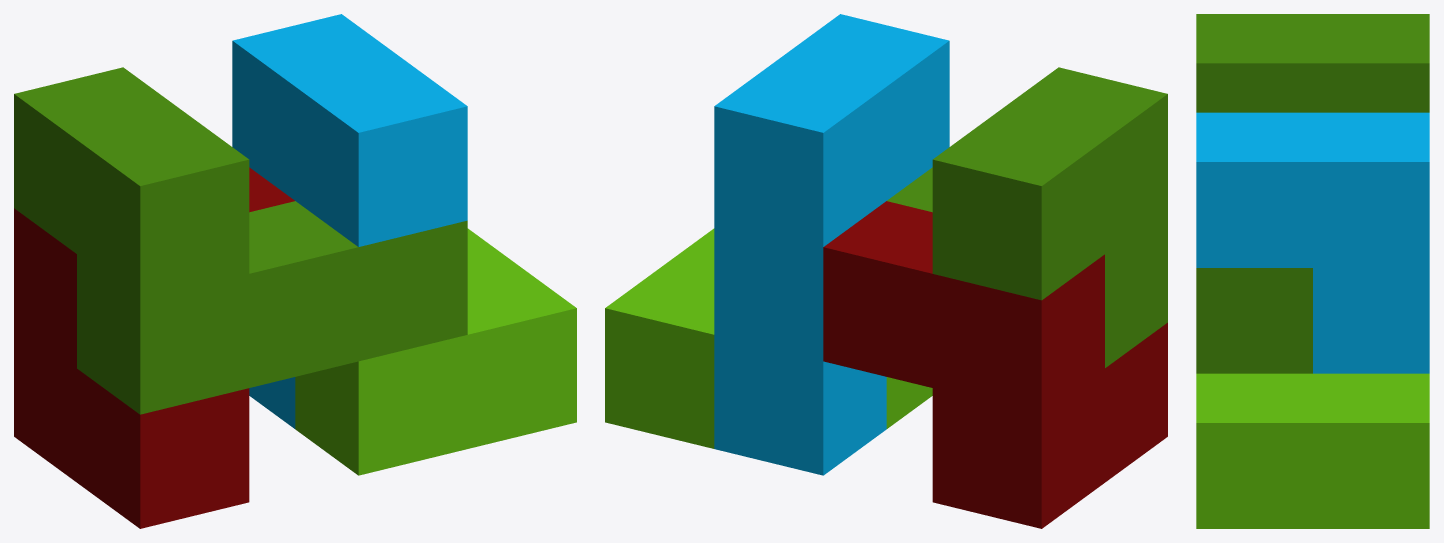
3 views of the same model, side by side, from view 1: azimuth 30°, elevation 25°; view 2: azimuth 150°, elevation 25°; view 3: azimuth 270°, elevation 25° (orthographic). The views are drawn at different scales.
Parts seen in each view (by area): view 1: mergedBlocks(Clone); view 2: mergedBlocks(Clone); view 3: mergedBlocks(Clone).
Part boxes in pixels (x1=…): mergedBlocks(Clone): x1=14, y1=14, x2=576, y2=528; mergedBlocks(Clone): x1=605, y1=14, x2=1167, y2=528; mergedBlocks(Clone): x1=1196, y1=14, x2=1429, y2=528.
Bounding box in the file's own units: 4 × 3 × 2.
Materials: 4 (4 with a texture image).
